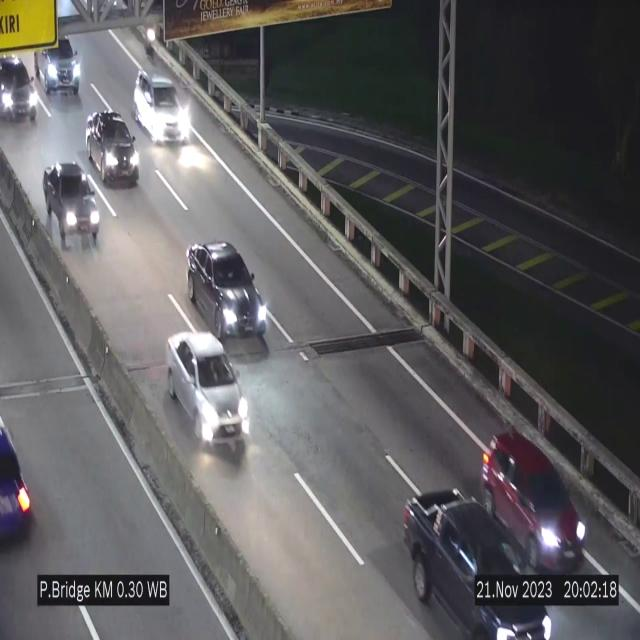Car: (408, 492, 544, 640), (483, 436, 585, 572), (166, 332, 250, 448), (183, 233, 261, 339), (43, 163, 107, 245), (79, 112, 141, 188), (133, 71, 192, 141)
